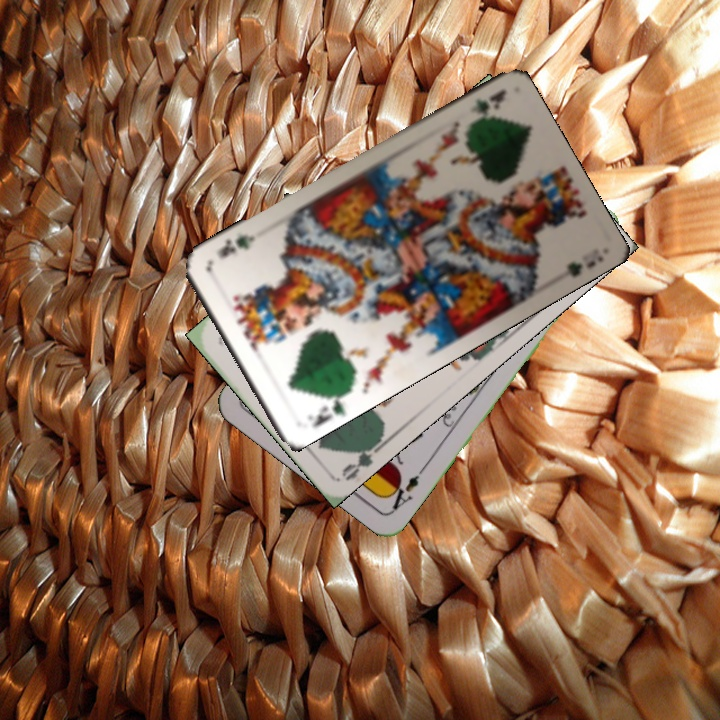EA: (382, 471, 422, 515)
GK: (303, 389, 348, 431), (465, 85, 509, 119)
GO: (337, 433, 389, 483)
